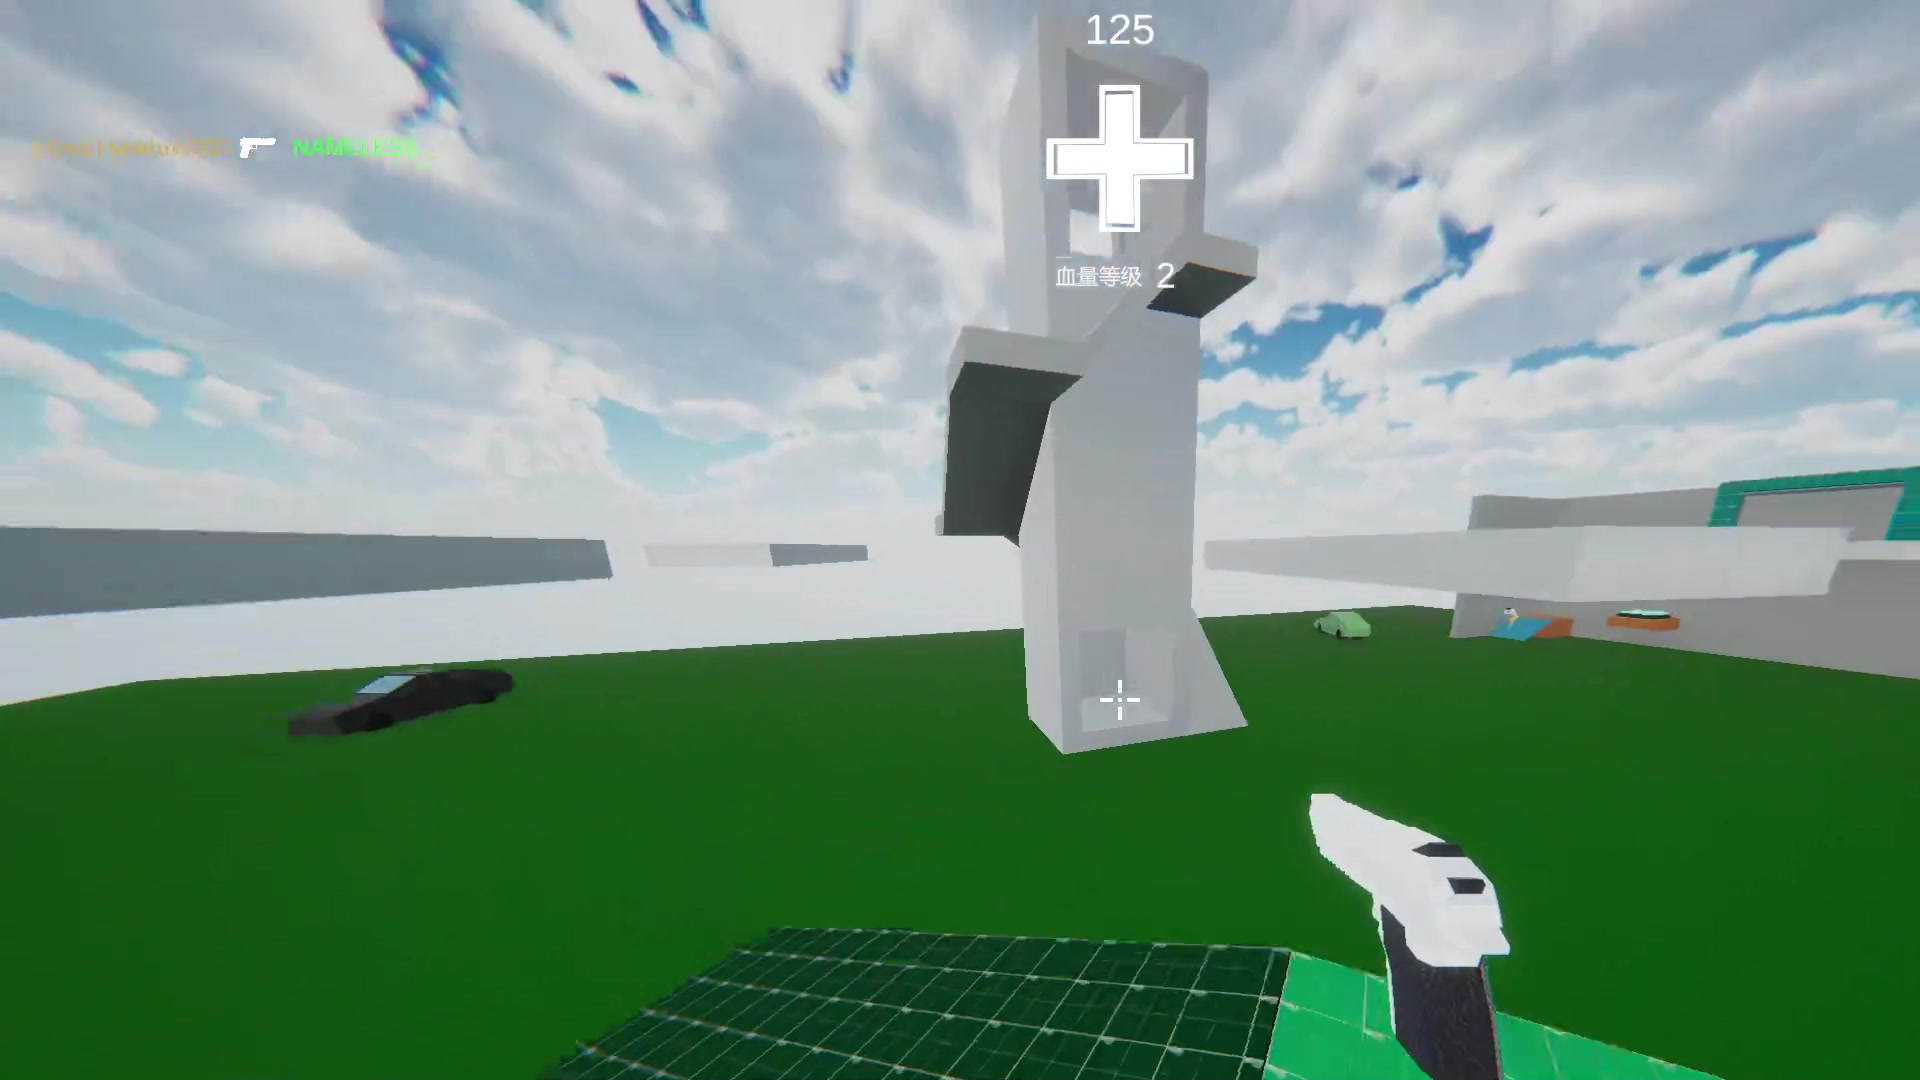human: (1499, 607, 1520, 632)
